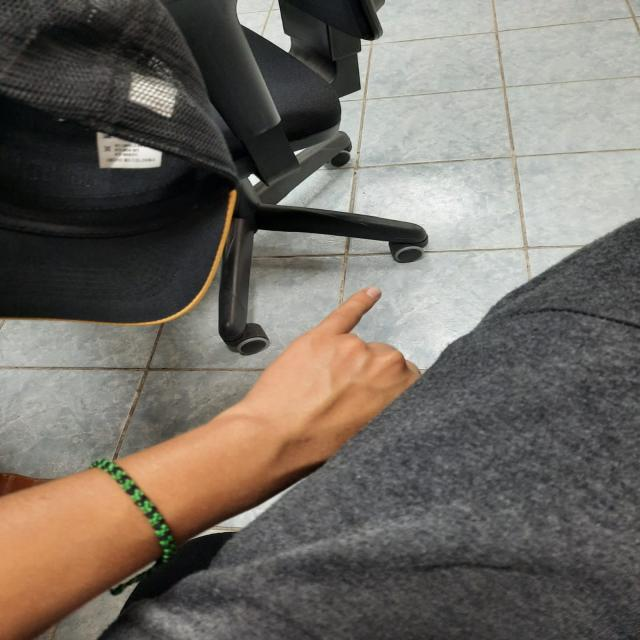Z: (210, 272, 450, 495)
